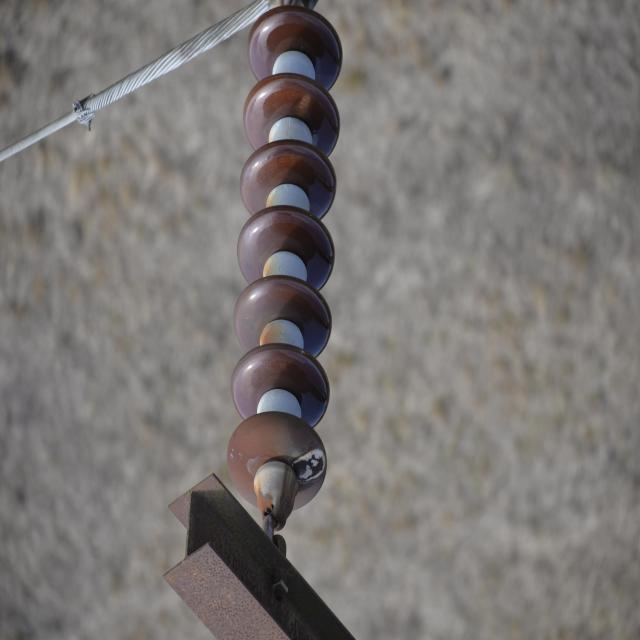insulator: (224, 7, 344, 516)
